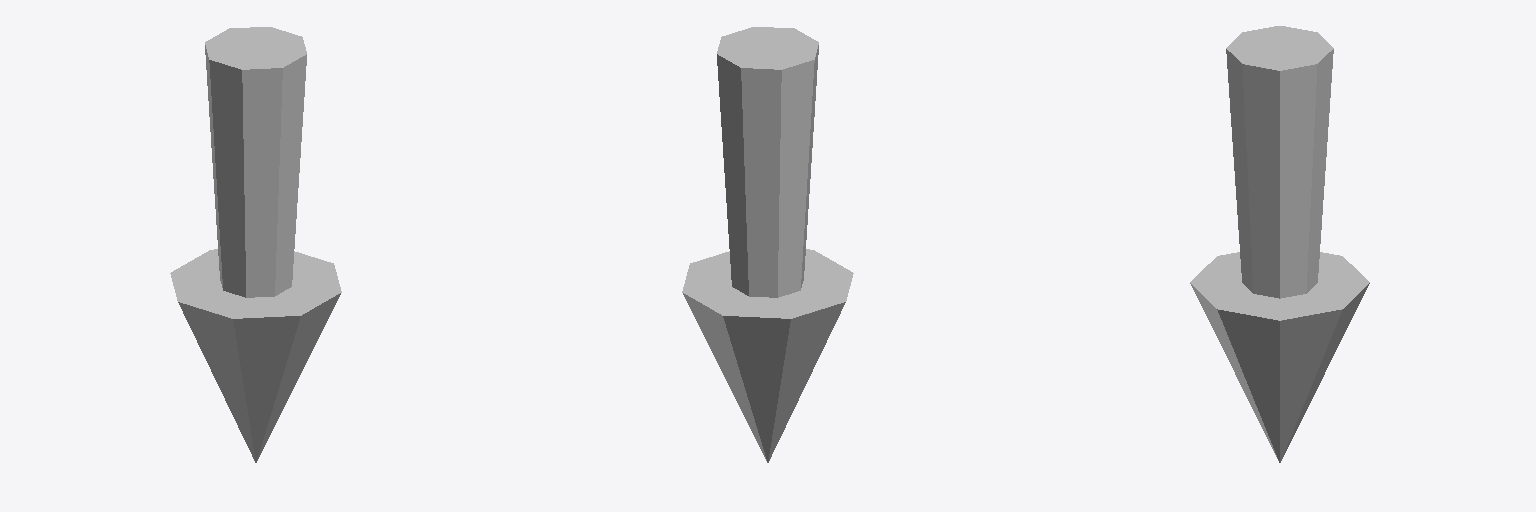
The model's file is arrow.obj.
3 views of the same model, side by side, from view 1: azimuth 30°, elevation 25°; view 2: azimuth 150°, elevation 25°; view 3: azimuth 270°, elevation 25° (orthographic).
Parts seen in each view (by area): view 1: Box003; view 2: Box003; view 3: Box003.
Part boxes in pixels (left/top/right/bottom): Box003: left=170, top=27, right=341, bottom=462; Box003: left=682, top=27, right=853, bottom=462; Box003: left=1190, top=26, right=1369, bottom=462.
Bounding box in the file's own units: 0.3928 × 0.9977 × 0.3928.